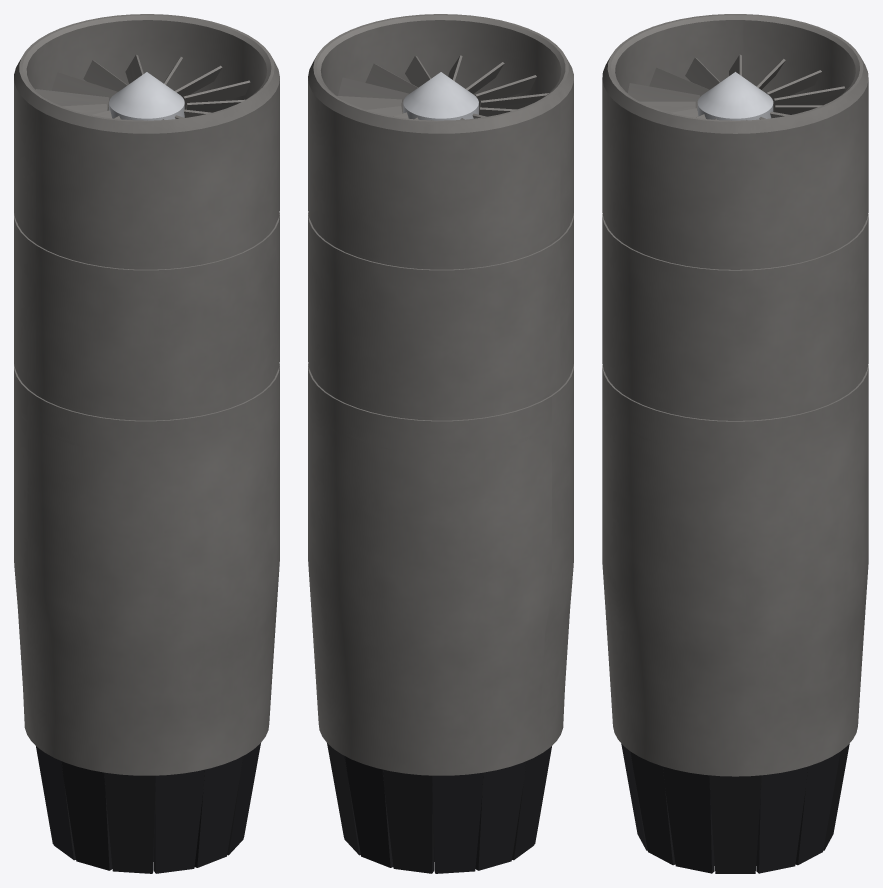
The model's file is ax_aero_28_jeab_turbofan_ab.glb.
3 views of the same model, side by side, from view 1: azimuth 30°, elevation 25°; view 2: azimuth 150°, elevation 25°; view 3: azimuth 270°, elevation 25° (orthographic).
Parts seen in each view (by area): view 1: nacelle, nozzle_petals, fan_blades, spinner, rear_frame; view 2: nacelle, nozzle_petals, fan_blades, spinner, rear_frame; view 3: nacelle, nozzle_petals, fan_blades, spinner.
Part boxes in pixels (bbox=[...]): nacelle: bbox=[14, 14, 279, 775]; nozzle_petals: bbox=[36, 743, 260, 873]; fan_blades: bbox=[36, 55, 250, 120]; spinner: bbox=[109, 72, 184, 120]; rear_frame: bbox=[15, 397, 279, 454]; nacelle: bbox=[308, 14, 573, 775]; nozzle_petals: bbox=[327, 743, 551, 873]; fan_blades: bbox=[337, 55, 548, 120]; spinner: bbox=[403, 72, 478, 120]; rear_frame: bbox=[308, 400, 571, 454]; nacelle: bbox=[602, 14, 868, 776]; nozzle_petals: bbox=[621, 744, 849, 873]; fan_blades: bbox=[628, 54, 845, 120]; spinner: bbox=[697, 72, 773, 120].
Bounding box in the file's own units: 1.25 × 3.96 × 1.25.
Materials: 3 (2 with a texture image).
